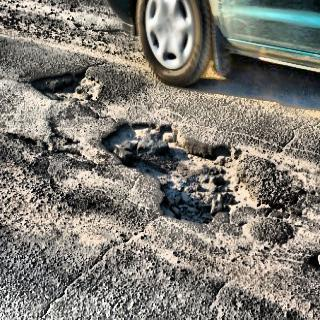pothole: (83, 113, 293, 240)
